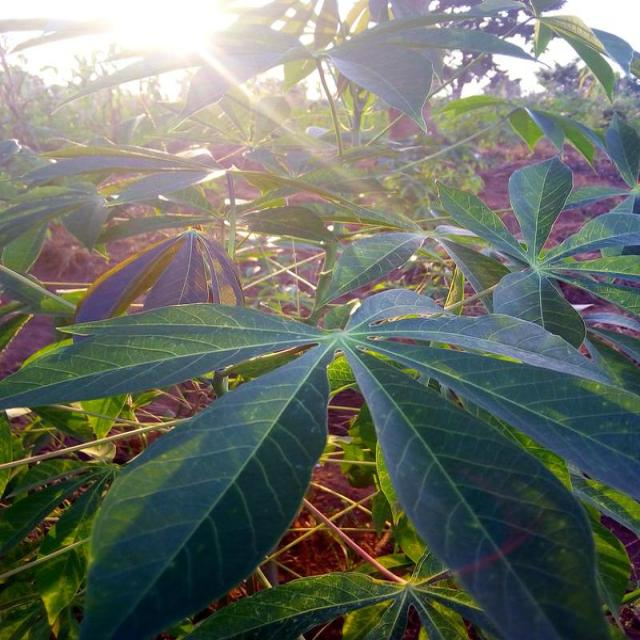cassava leaf: (342, 336, 614, 638), (79, 338, 335, 638)
